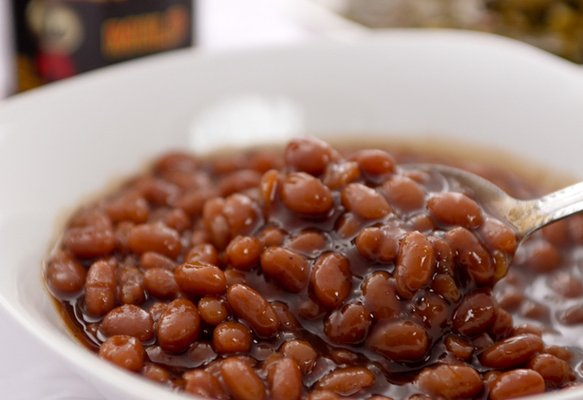sandwich: (19, 133, 582, 400)
